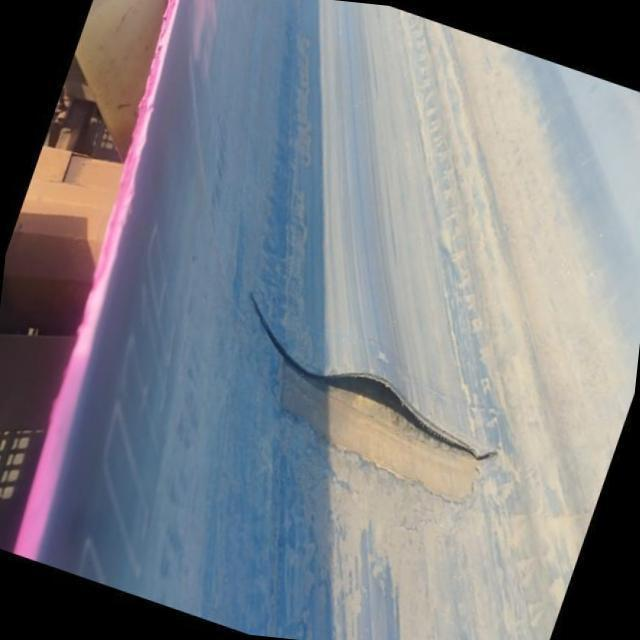Tear: (246, 288, 502, 467)
